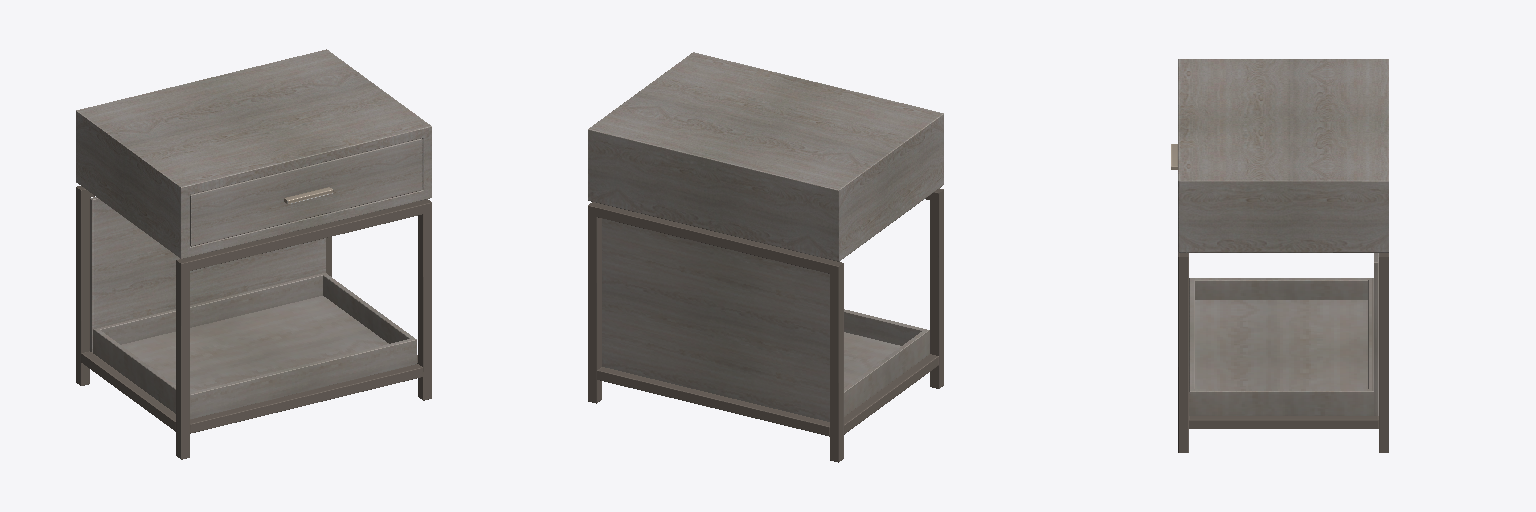
3 views of the same model, side by side, from view 1: azimuth 30°, elevation 25°; view 2: azimuth 150°, elevation 25°; view 3: azimuth 270°, elevation 25° (orthographic).
Parts seen in each view (by area): view 1: solid_001, solid_002; view 2: solid_001, solid_002; view 3: solid_001, solid_002.
Part boxes in pixels (left/top/right/bottom): solid_001: left=76, top=49, right=431, bottom=418; solid_002: left=76, top=186, right=431, bottom=459; solid_001: left=588, top=52, right=943, bottom=421; solid_002: left=588, top=188, right=943, bottom=462; solid_001: left=1178, top=59, right=1388, bottom=415; solid_002: left=1178, top=252, right=1388, bottom=452.
Bounding box in the file's own units: 1.3 × 1.35 × 0.9823.
1 materials, 1 textured.